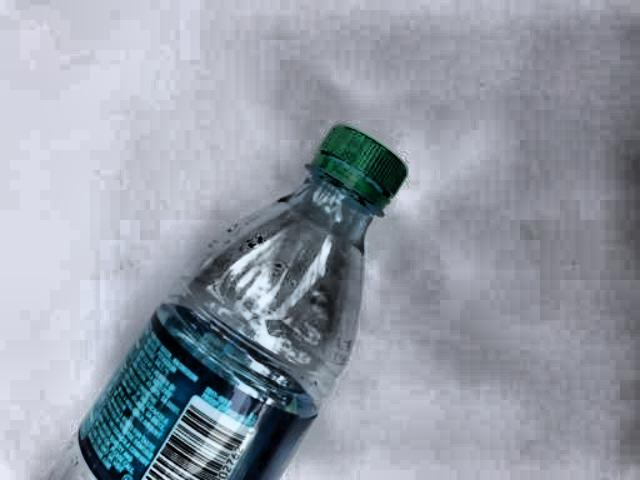Bottles: (73, 103, 417, 480)
